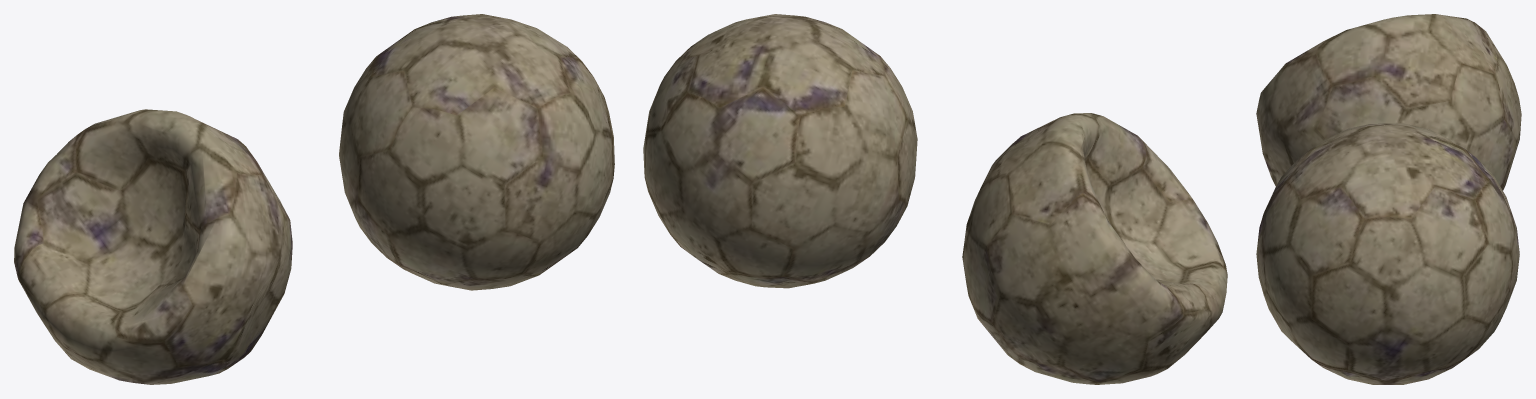
The model's file is football.glb.
3 renders of one model, left to right at view 1: azimuth 30°, elevation 25°; view 2: azimuth 150°, elevation 25°; view 3: azimuth 270°, elevation 25°, orthographic. The views are drawn at different scales.
Parts seen in each view (by area): view 1: football_inflated, football_deflated; view 2: football_inflated, football_deflated; view 3: football_inflated, football_deflated.
Boxes of the visible parts, box(x1,y1,x2,y2) form: football_inflated: box(339, 14, 614, 290); football_deflated: box(14, 109, 292, 384); football_inflated: box(643, 14, 917, 288); football_deflated: box(962, 113, 1227, 384); football_inflated: box(1256, 123, 1519, 384); football_deflated: box(1256, 14, 1521, 190).
Size of the model in its own units: 0.508 by 0.2219 by 0.2222.
Materials: 1 (1 with a texture image).
